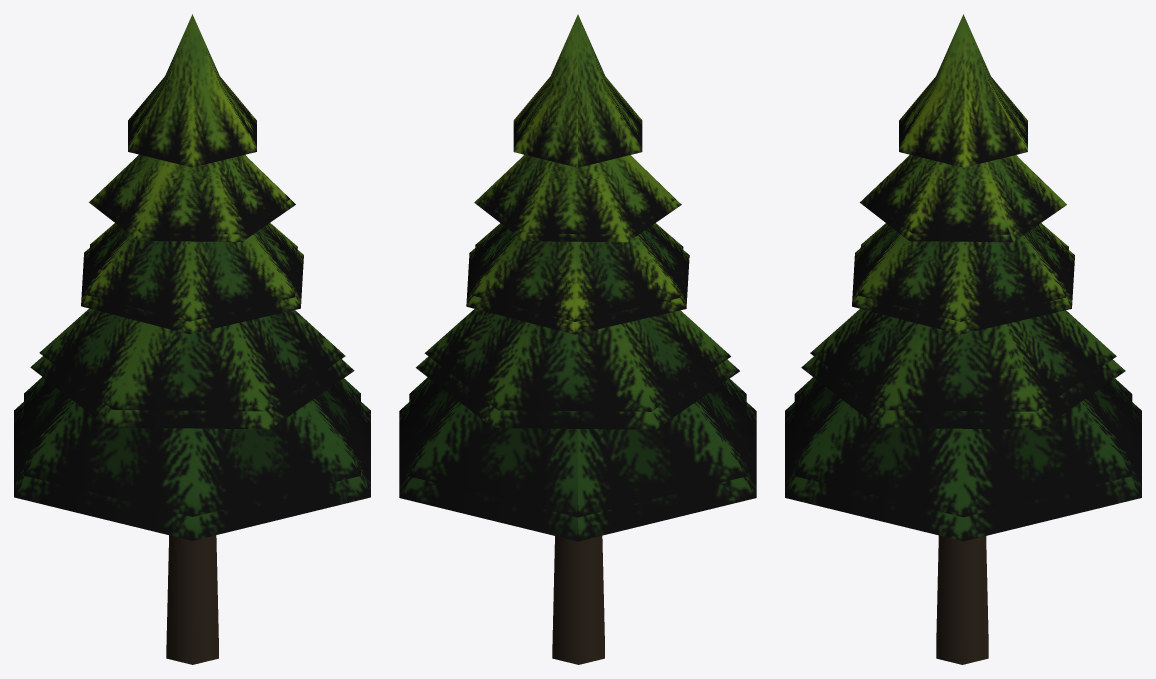
The model's file is Blue_Tree.fbx.
3 renders of one model, left to right at view 1: azimuth 30°, elevation 25°; view 2: azimuth 150°, elevation 25°; view 3: azimuth 270°, elevation 25°, orthographic.
Visible parts, largest first — view 1: Tree, Sparkle_Layer; view 2: Tree, Sparkle_Layer; view 3: Tree, Sparkle_Layer.
Boxes of the visible parts, <box> form: Tree: <box>24,157,360,664</box>; Sparkle_Layer: <box>14,14,370,540</box>; Tree: <box>409,157,746,664</box>; Sparkle_Layer: <box>399,14,756,541</box>; Tree: <box>794,157,1132,664</box>; Sparkle_Layer: <box>785,14,1141,541</box>.
Bounding box in the file's own units: 24.98 × 42.67 × 21.63.
